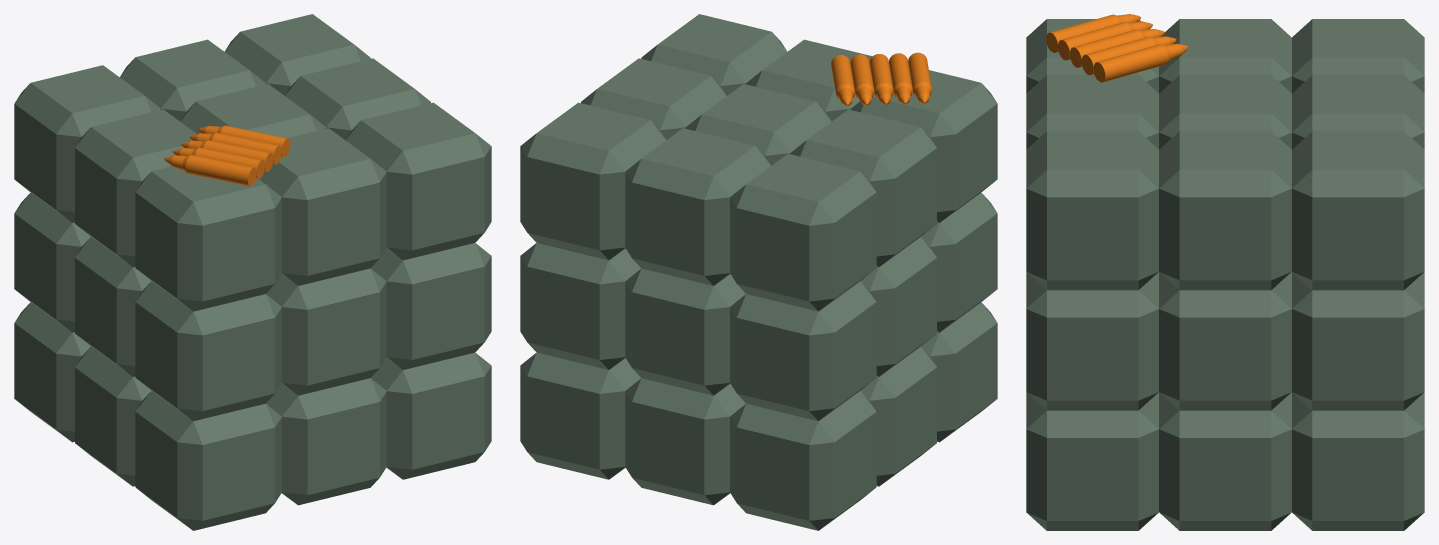
File: Ammo6.glb
3 views of the same model, side by side, from view 1: azimuth 30°, elevation 25°; view 2: azimuth 150°, elevation 25°; view 3: azimuth 270°, elevation 25° (orthographic). The views are drawn at different scales.
Visible parts, largest first — view 1: Cube, Cylinder; view 2: Cube, Cylinder; view 3: Cube, Cylinder.
Boxes of the visible parts, x1,y1,x2,y2 form: Cube: (14, 14, 491, 530); Cylinder: (164, 125, 290, 186); Cube: (520, 14, 997, 530); Cylinder: (831, 52, 931, 105); Cube: (1026, 19, 1424, 530); Cylinder: (1046, 14, 1188, 82).
Size of the model in its own units: 6 by 6.31 by 6.
